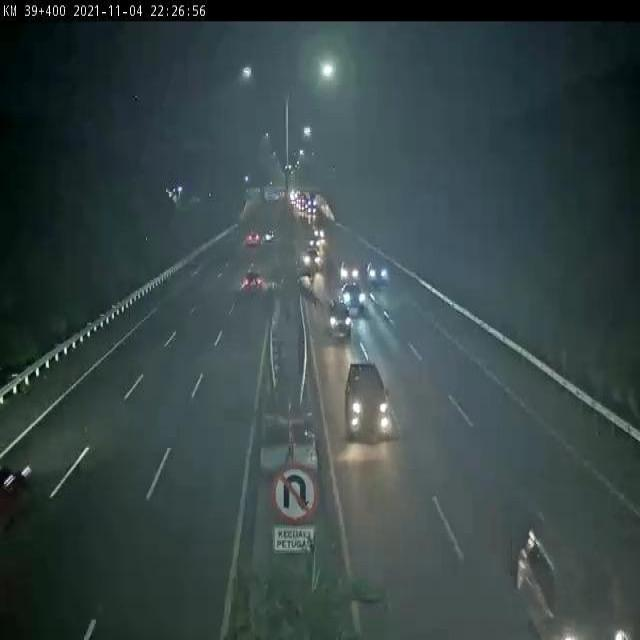car: (343, 356, 393, 439), (325, 298, 353, 338), (342, 283, 367, 312), (365, 259, 391, 285), (339, 260, 361, 284), (242, 269, 263, 291)
